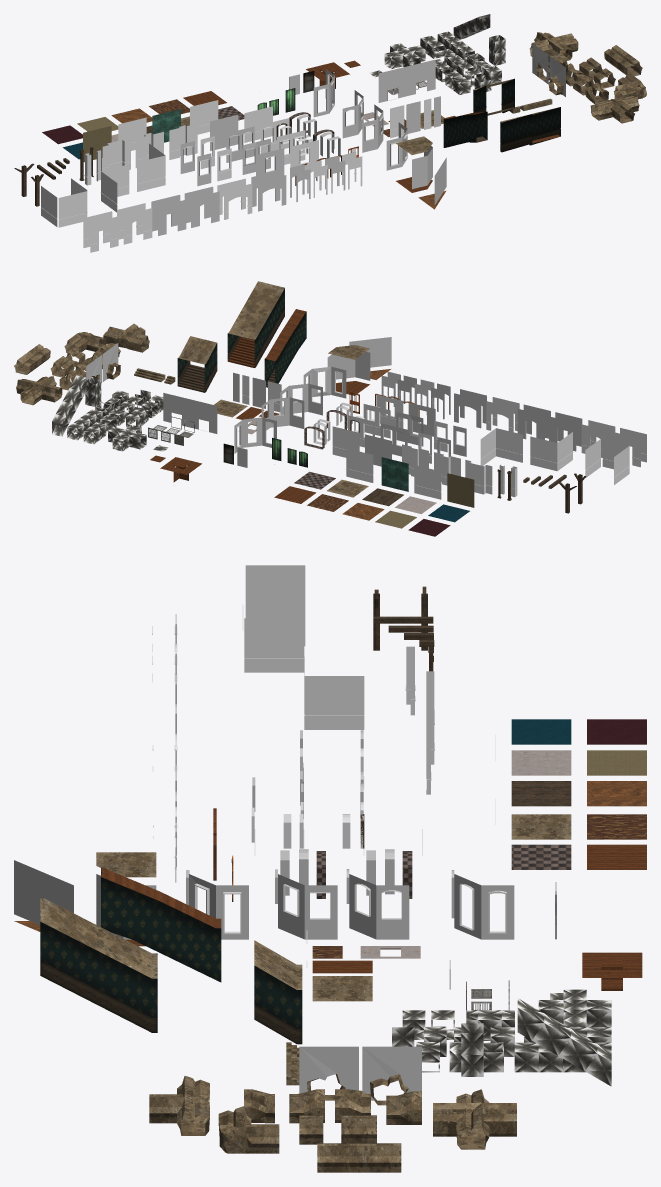
The model's file is House Kit.fbx.
3 views of the same model, one above another, from view 1: azimuth 30°, elevation 25°; view 2: azimuth 150°, elevation 25°; view 3: azimuth 270°, elevation 25° (orthographic). The views are drawn at different scales.
Visible parts, largest first — view 1: Wide Stairs Ceiling, Narrow Long Stairs, Wood Wall Corner 2, Wood Wall Corner 1, Destroyed Tunnel T, Destroyed Tunnel X, Wood Wall Corner Middle, Ceiling Small Stairs, Vent Cross, Plain Wall Air Duct Gate No Casing, Wood Wall Small Column, Plain Wall (+53 smaller); view 2: Wide Stairs Ceiling, Narrow Long Stairs, Ceiling Small Stairs, Wood Wall Corner 2, Wood Wall Corner 1, Vent Floor Change, Destroyed Tunnel X, Destroyed Tunnel T, Plain Wall Triple Corner Curved, Plain Wall Triple Corner, Plain Wall Triple Corner Curved Long, Plain Wall Triple Corner Square (+50 smaller); view 3: Wide Stairs Ceiling, Narrow Long Stairs, Ceiling Small Stairs, Destroyed Tunnel X, Wood Wall Corner 2, Vent Floor Change, Wood Wall Corner 1, Plain Wall Destoryed Tunnel Entry, Plain Wall Triple Corner Curved, Plain Wall Triple Corner Square, Destroyed Tunnel T, Destroyed Tunnel Long (+30 smaller).
Boxes of the visible parts, x1=… form: Wide Stairs Ceiling: x1=500, y1=107, x2=560, y2=152; Narrow Long Stairs: x1=443, y1=111, x2=487, y2=147; Wood Wall Corner 2: x1=100, y1=164, x2=129, y2=212; Wood Wall Corner 1: x1=137, y1=143, x2=165, y2=191; Destroyed Tunnel T: x1=590, y1=95, x2=639, y2=123; Destroyed Tunnel X: x1=529, y1=32, x2=578, y2=60; Wood Wall Corner Middle: x1=58, y1=191, x2=87, y2=227; Ceiling Small Stairs: x1=473, y1=78, x2=514, y2=113; Vent Cross: x1=384, y1=43, x2=425, y2=69; Plain Wall Air Duct Gate No Casing: x1=378, y1=66, x2=407, y2=102; Wood Wall Small Column: x1=169, y1=123, x2=197, y2=159; Plain Wall: x1=210, y1=114, x2=238, y2=150; Wide Stairs Ceiling: x1=227, y1=281, x2=284, y2=367; Narrow Long Stairs: x1=264, y1=309, x2=306, y2=383; Ceiling Small Stairs: x1=177, y1=336, x2=217, y2=392; Wood Wall Corner 2: x1=530, y1=432, x2=573, y2=471; Wood Wall Corner 1: x1=480, y1=428, x2=522, y2=465; Vent Floor Change: x1=52, y1=375, x2=86, y2=436; Destroyed Tunnel X: x1=16, y1=376, x2=62, y2=405; Destroyed Tunnel T: x1=103, y1=323, x2=149, y2=352; Plain Wall Triple Corner Curved: x1=261, y1=397, x2=304, y2=430; Plain Wall Triple Corner: x1=327, y1=351, x2=370, y2=380; Plain Wall Triple Corner Curved Long: x1=234, y1=417, x2=276, y2=453; Plain Wall Triple Corner Square: x1=280, y1=383, x2=322, y2=415; Wide Stairs Ceiling: x1=40, y1=896, x2=157, y2=1032; Narrow Long Stairs: x1=101, y1=867, x2=221, y2=982; Ceiling Small Stairs: x1=254, y1=940, x2=302, y2=1044; Destroyed Tunnel X: x1=433, y1=1089, x2=516, y2=1149; Wood Wall Corner 2: x1=244, y1=618, x2=304, y2=675; Vent Floor Change: x1=517, y1=998, x2=611, y2=1086; Wood Wall Corner 1: x1=304, y1=676, x2=364, y2=729; Plain Wall Destoryed Tunnel Entry: x1=362, y1=1046, x2=421, y2=1105; Plain Wall Triple Corner Curved: x1=346, y1=869, x2=409, y2=939; Plain Wall Triple Corner Square: x1=275, y1=869, x2=337, y2=939; Destroyed Tunnel T: x1=149, y1=1076, x2=209, y2=1135; Destroyed Tunnel Long: x1=317, y1=1143, x2=401, y2=1172.
Bounding box in the file's own units: 8512 × 1046 × 4229.
